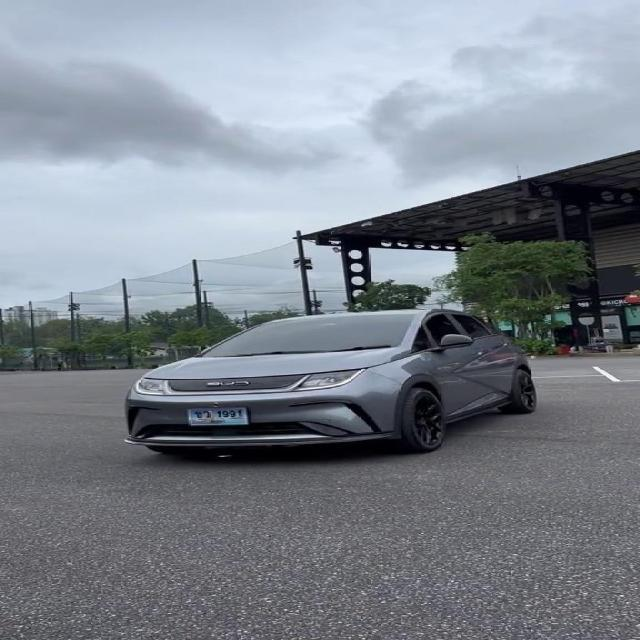Hatchback: (124, 309, 536, 454)
